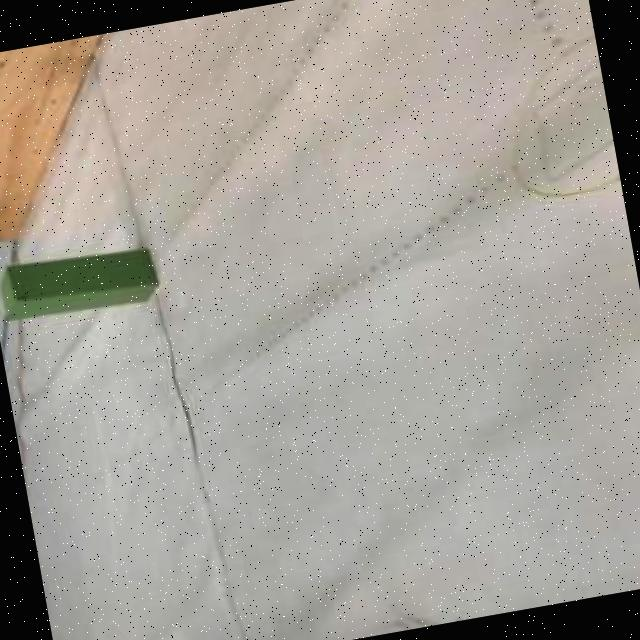greenbox: (0, 239, 159, 327)
